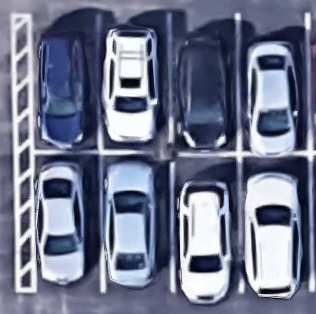Occupied: (32, 152, 103, 294), (98, 13, 170, 153), (237, 13, 309, 153), (101, 153, 173, 293), (239, 154, 312, 292), (169, 13, 238, 154), (31, 13, 99, 153), (173, 154, 240, 293)
